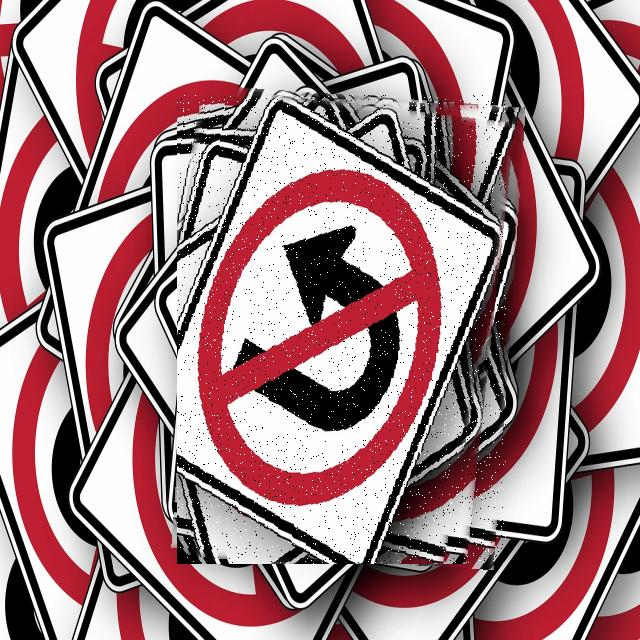no u turn: (177, 95, 506, 564)
